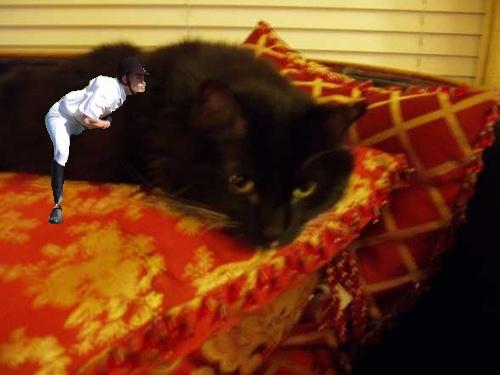tampered: (46, 58, 150, 224)
